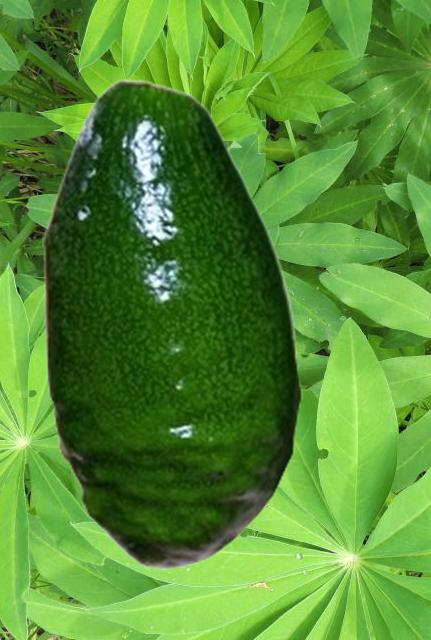avocado: (42, 78, 301, 568)
